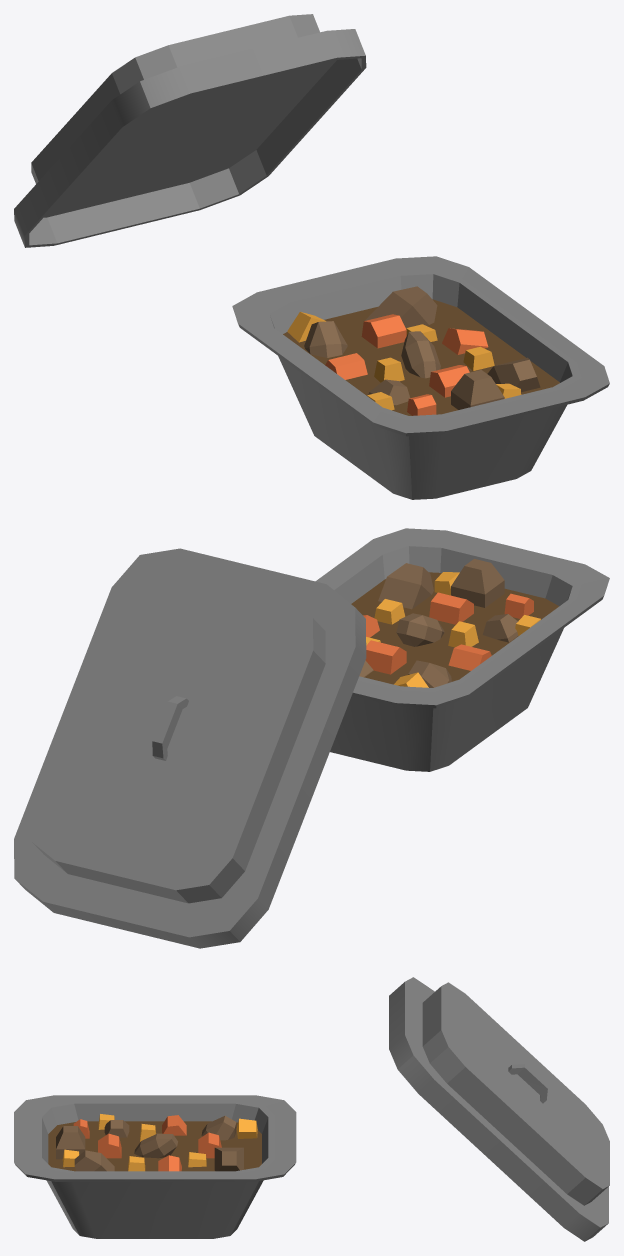
The model's file is caldereta.fbx.
The picture shows the model from 3 angles, top to bottom: view 1: azimuth 30°, elevation 25°; view 2: azimuth 150°, elevation 25°; view 3: azimuth 270°, elevation 25°; orthographic projection. The views are drawn at different scales.
Parts seen in each view (by area): view 1: pCube26, pCube4; view 2: pCube4, pCube26; view 3: pCube26, pCube4.
Boxes of the visible parts, box(x1,y1,x2,y2) form: pCube26: box(232, 256, 609, 499); pCube4: box(14, 14, 366, 247); pCube4: box(14, 548, 366, 948); pCube26: box(315, 528, 609, 771); pCube26: box(14, 1095, 296, 1238); pCube4: box(389, 977, 609, 1241).
Bounding box in the file's own units: 3.84 × 4.17 × 10.92.
